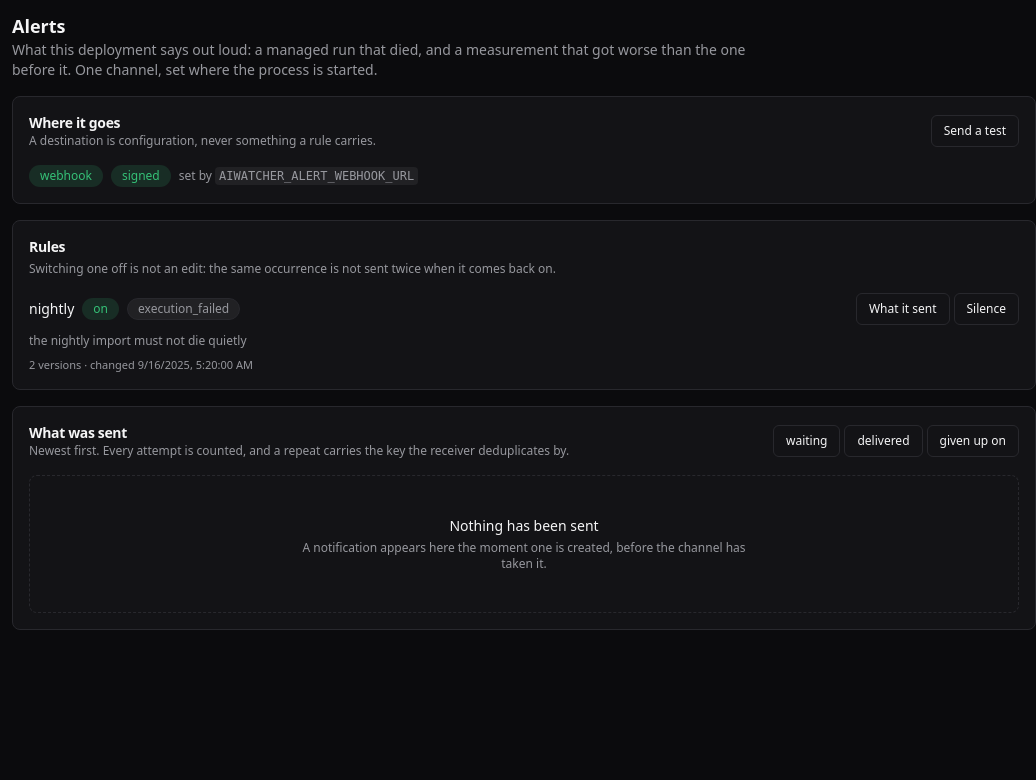
Test case: reports what the receiver said to a test rather than that a test ran
Expected: the text "webhook" is shown, [29,165,103,187]
Click the button "Send a test" at (975, 131), box [931,115,1019,147]
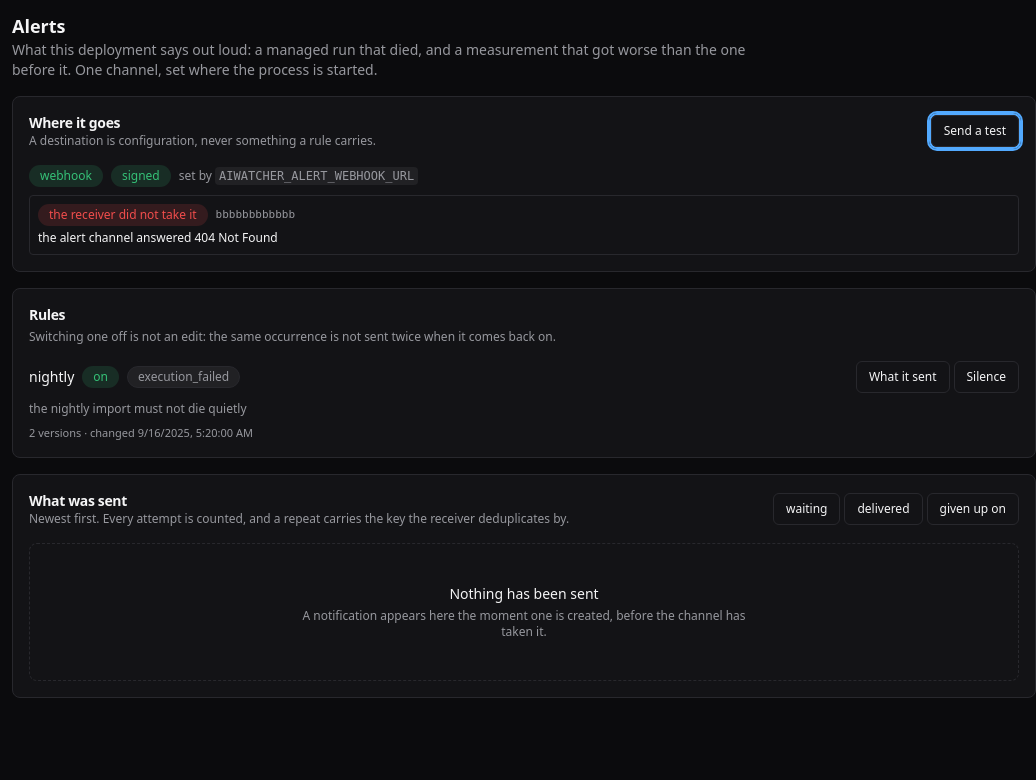
Expected: the text "the receiver did not take it" is shown, [38,204,208,226]
Expected: the text "the alert channel answered 404 Not Found" is shown, [38,229,278,246]
